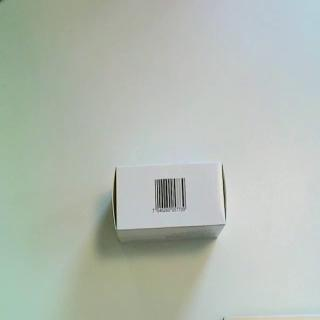oxynorm10mg: (112, 160, 229, 246)
